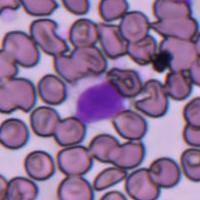L: (75, 78, 127, 124)
